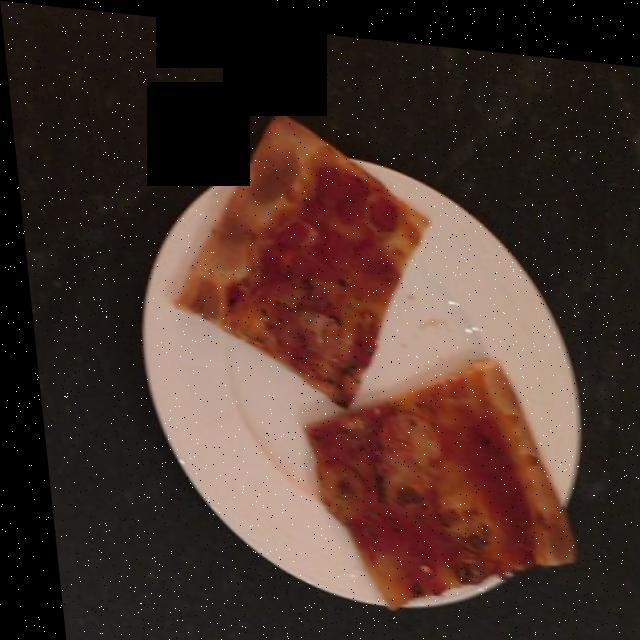pizza: (171, 102, 557, 599)
